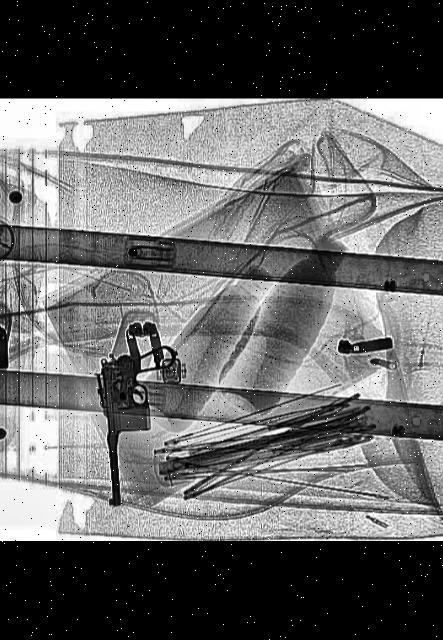Gun: (93, 343, 190, 506)
